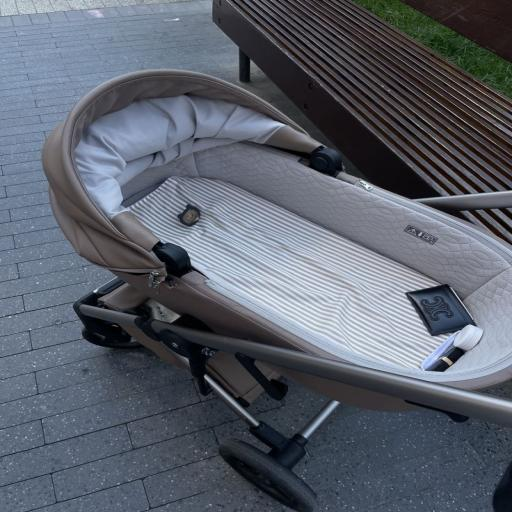steps_down: (44, 70, 511, 510)
trash_bin: (213, 0, 511, 197)
